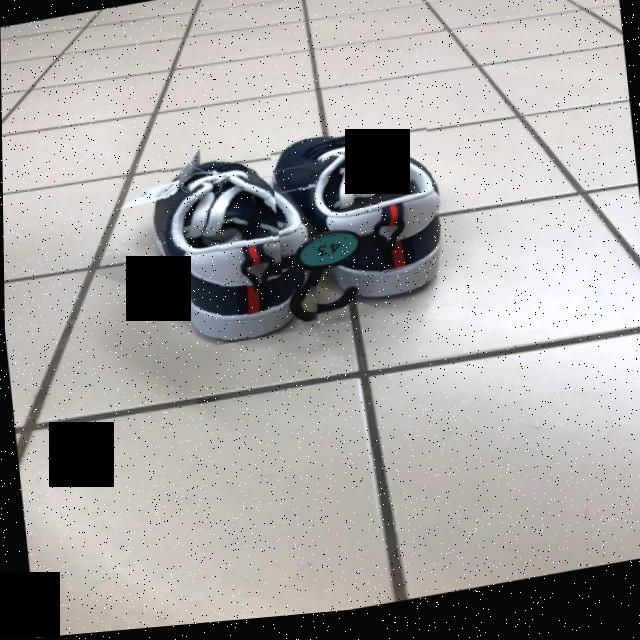shoe: (151, 161, 317, 347), (272, 141, 436, 281)
